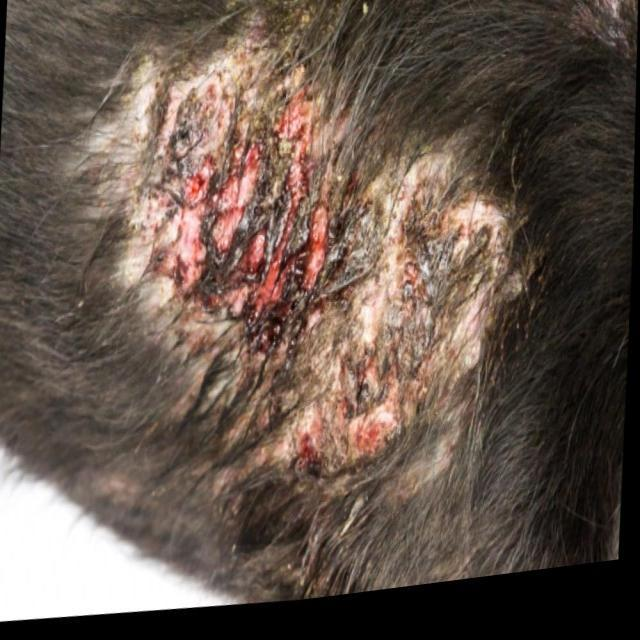hac lao: (71, 20, 548, 553)
